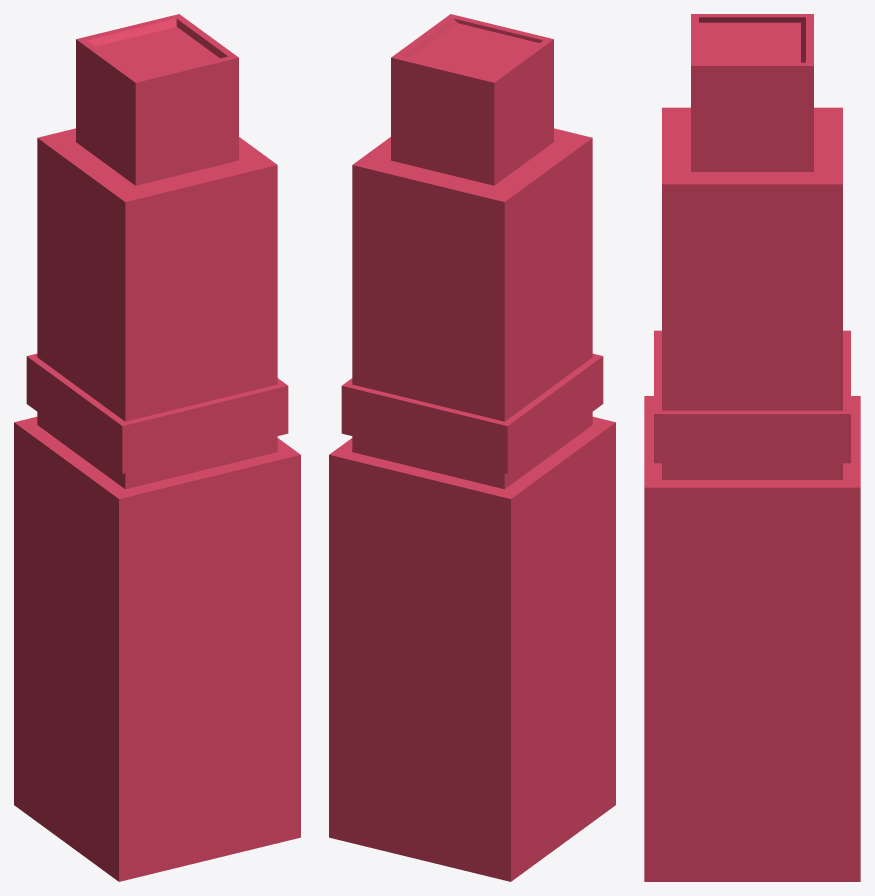
Rendered from Building4_red.fbx.
3 views of the same model, side by side, from view 1: azimuth 30°, elevation 25°; view 2: azimuth 150°, elevation 25°; view 3: azimuth 270°, elevation 25° (orthographic). The views are drawn at different scales.
Visible parts, largest first — view 1: Building 4; view 2: Building 4; view 3: Building 4.
Boxes of the visible parts, left/top/right/bottom form: Building 4: left=14, top=14, right=300, bottom=881; Building 4: left=329, top=14, right=615, bottom=881; Building 4: left=644, top=14, right=860, bottom=881.
Size of the model in its own units: 1195 by 4853 by 1195.
Materials: 1 (1 with a texture image).
